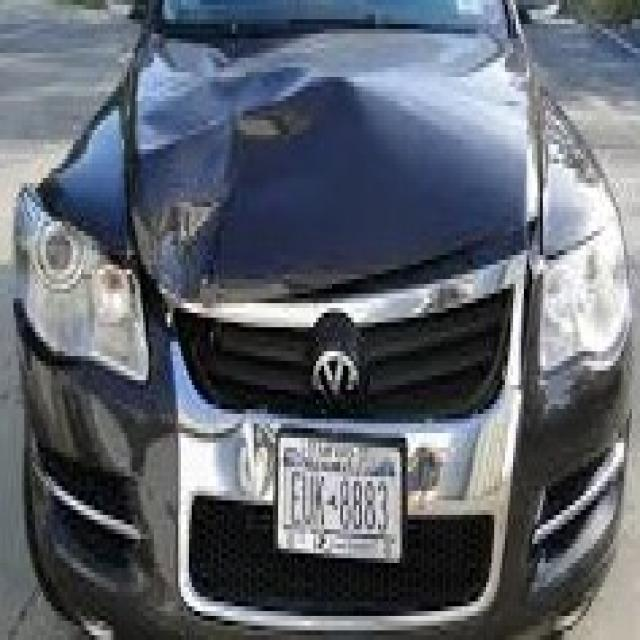minor: (110, 49, 556, 392)
